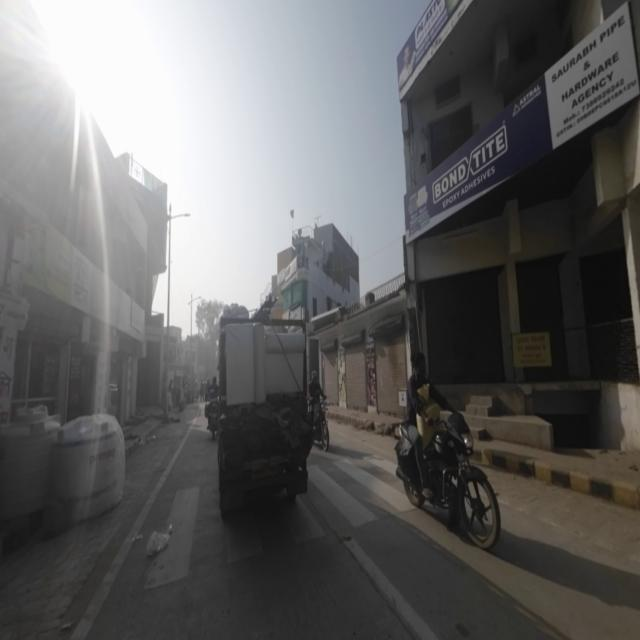Garbage: (144, 524, 170, 562)
